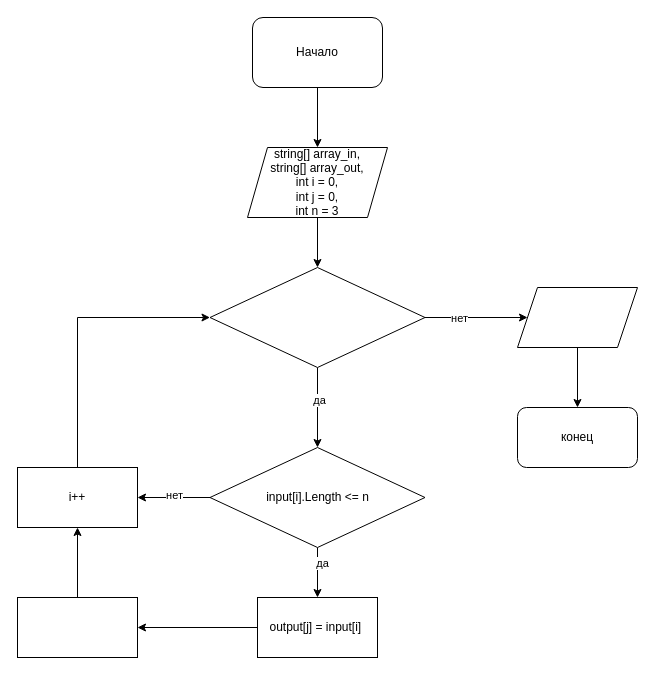
Some shapes in this 655 by 675 pixel diagram are drawn without their labels. Here are the shapes that lost their labels. From the top down, the centre of each, then its label:
At (317,317): "i < input.Length".
At (577,317): "output".
At (77,627): "j++".
